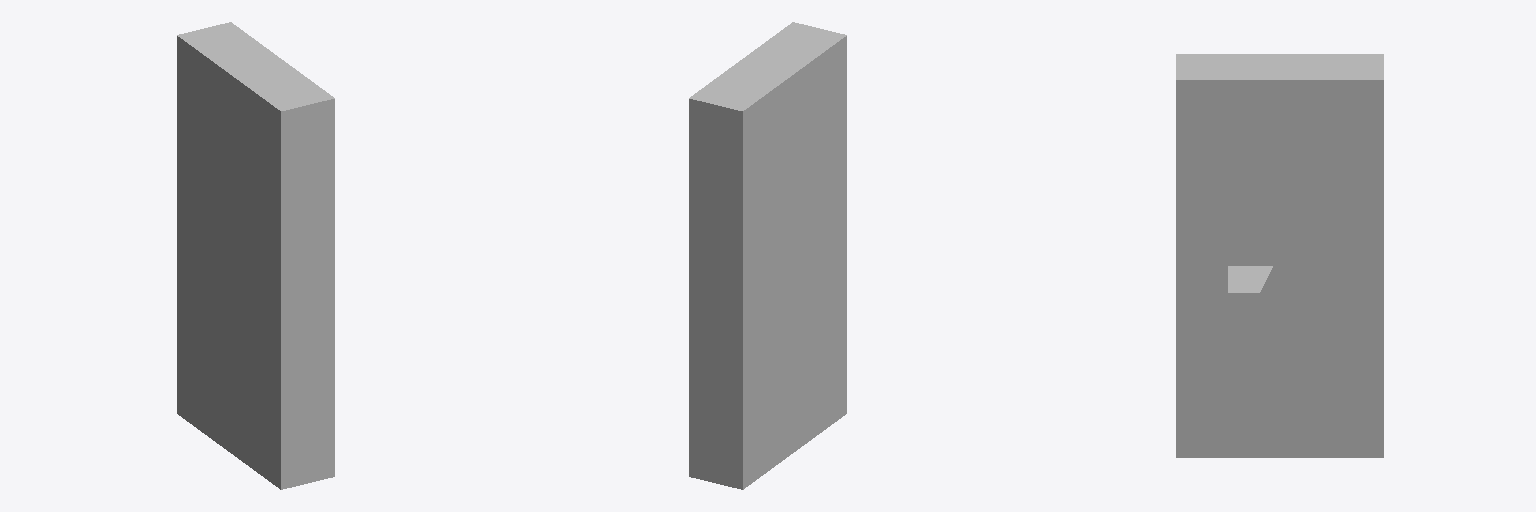
File: murfenetre.obj
3 views of the same model, side by side, from view 1: azimuth 30°, elevation 25°; view 2: azimuth 150°, elevation 25°; view 3: azimuth 270°, elevation 25° (orthographic).
Visible parts, largest first — view 1: Cube.001_Cube.003; view 2: Cube.001_Cube.003; view 3: Cube.001_Cube.003.
Part boxes in pixels (x1,y1,x2,y2): Cube.001_Cube.003: (177,22,334,489); Cube.001_Cube.003: (689,22,846,489); Cube.001_Cube.003: (1176,54,1383,457).
Bounding box in the file's own units: 0.6 × 4 × 2.